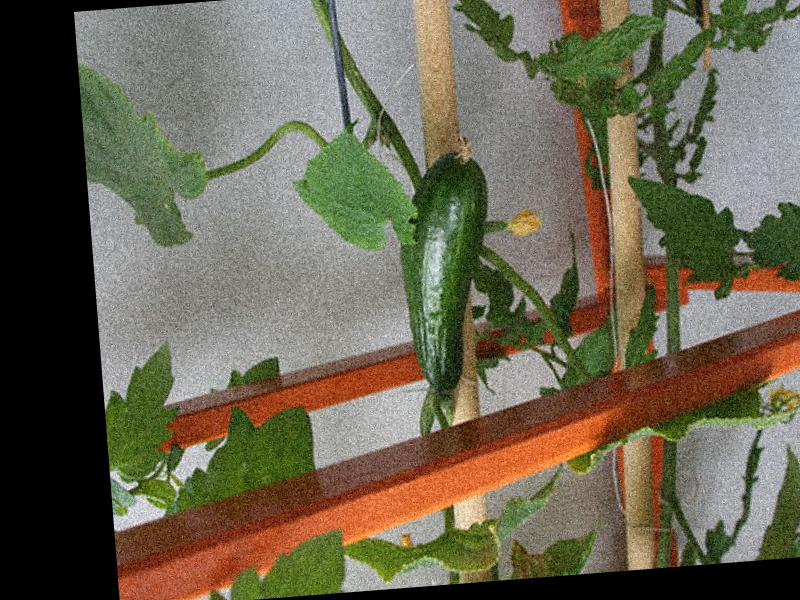Cucumber: (393, 133, 502, 393)
